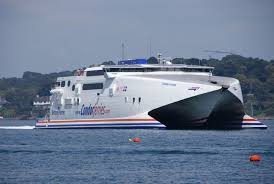tau_dansu: (41, 60, 251, 130)
